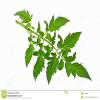Tomato leaf: (67, 60, 95, 83), (31, 47, 48, 81), (59, 31, 84, 52), (44, 16, 73, 34), (45, 51, 60, 85), (14, 5, 35, 28), (23, 41, 37, 66)
